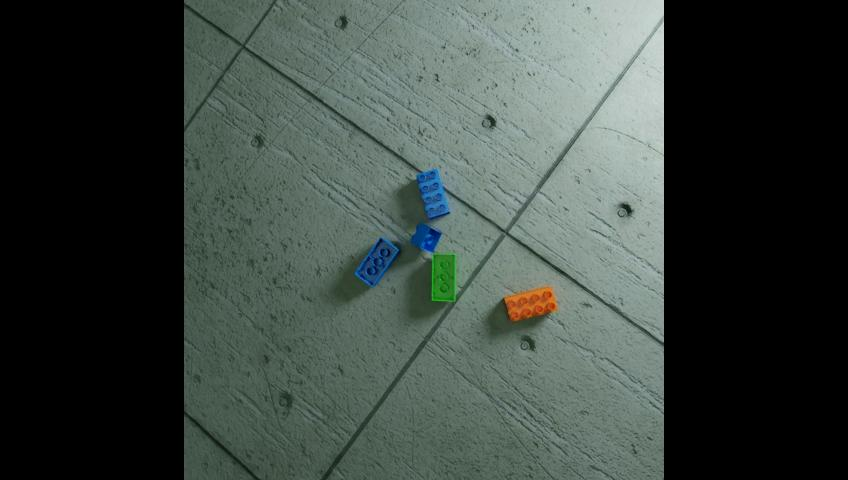2x2_blue: (410, 223, 441, 253)
4x2_blue: (354, 237, 400, 286), (415, 169, 450, 219)
4x2_green: (431, 254, 455, 301)
4x2_orange: (503, 287, 557, 321)
